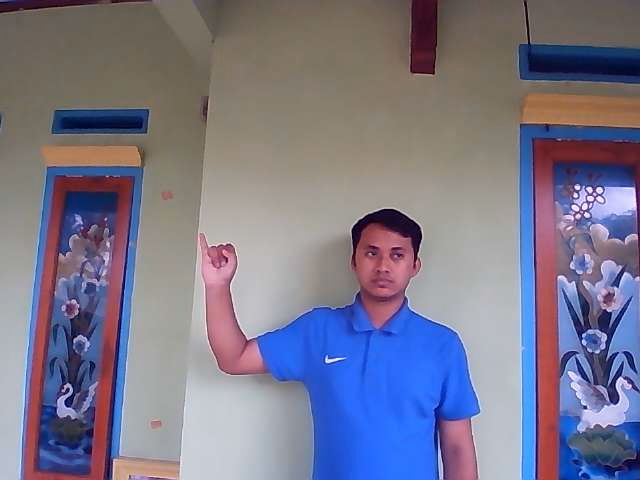I: (198, 232, 239, 288)
